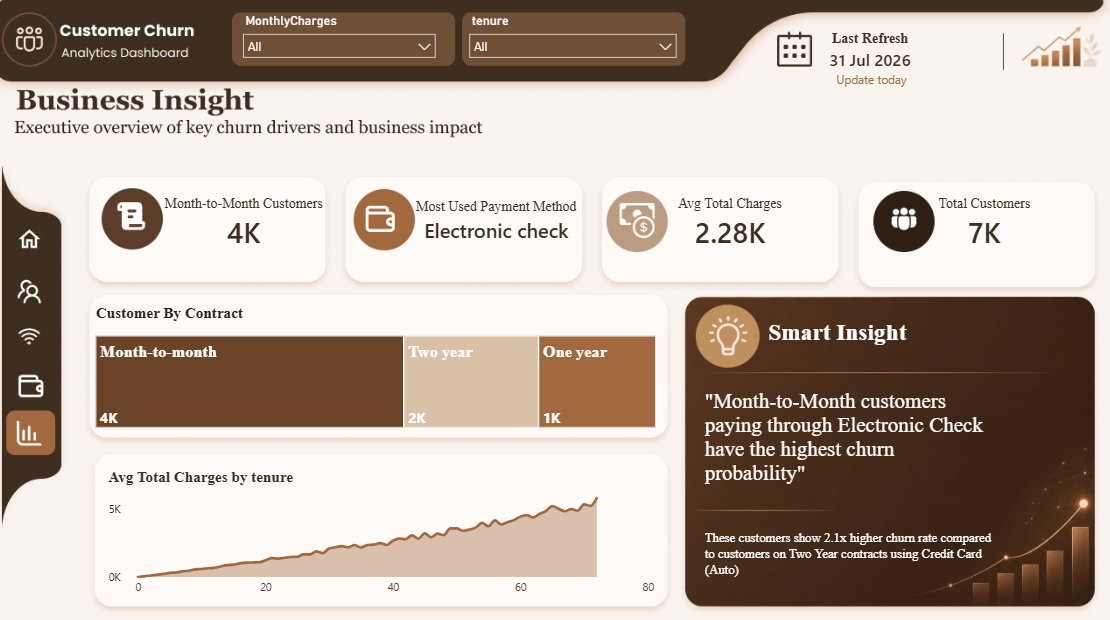

This screenshot's page, from the dashboard's own definition file:
{"tool":"powerbi","page":{"name":"Page 5","canvas":[1280,720],"ordinal":4},"visuals":[{"type":"cardVisual","fields":{"Data":["dax.Month-to-Month Customers"]},"box":[161.7,205,248.3,98.3],"z":0},{"type":"cardVisual","fields":{"Data":["dax.Most Used Payment Method"]},"box":[448.3,198.3,251.7,108.3],"z":1000},{"type":"cardVisual","fields":{"Data":["dax.Avg Total Charges"]},"box":[736.7,205,208.3,98.3],"z":2000},{"type":"cardVisual","fields":{"Data":["dax.Total Customers"]},"box":[1021.7,205,221.7,98.3],"z":3000},{"type":"areaChart","fields":{"Category":["fact customer.tenure"],"Y":["dax.Avg Total Charges"]},"box":[125,535,636.7,148.3],"z":4000},{"type":"cardVisual","fields":{"Data":["dax.Last Refresh"]},"box":[923.4,20.2,157.3,77.9],"z":5000},{"type":"textbox","box":[945,76.5,114,43.3],"z":6000},{"type":"slicer","fields":{"Values":["fact customer.MonthlyCharges"]},"box":[273.9,9.7,240.1,65],"z":7000},{"type":"slicer","fields":{"Values":["fact customer.tenure"]},"box":[532.4,10.1,256.8,66.4],"z":8000},{"type":"actionButton","box":[13,251,59.2,52],"z":9000},{"type":"actionButton","box":[13,308.8,59.2,52],"z":10000},{"type":"actionButton","box":[13,362.1,59.2,52],"z":11000},{"type":"actionButton","box":[13,414.1,59.2,52],"z":12000},{"type":"actionButton","box":[13,467.5,59.2,52],"z":13000},{"type":"textbox","box":[880,360,228.3,43.3],"z":14000},{"type":"textbox","box":[806.7,440,338.3,143.3],"z":15000},{"type":"textbox","box":[806.7,600,338.3,83.3],"z":16000},{"type":"treemap","title":"Customer By Contract","fields":{"Group":["DimContract.Contract"],"Values":["dax.Total Customers"]},"box":[111.7,348.3,650,145],"z":16001}]}

Visuals, with their boxes in screenshot pixels (x1, y1, x2, y2), scaled from the page's 1280x720 canvas onto the 1110x620 screenshot:
cardVisual - dax.Month-to-Month Customers: 140 177 356 261
cardVisual - dax.Most Used Payment Method: 389 171 607 264
cardVisual - dax.Avg Total Charges: 639 177 819 261
cardVisual - dax.Total Customers: 886 177 1078 261
areaChart - fact customer.tenure x dax.Avg Total Charges: 108 461 661 588
cardVisual - dax.Last Refresh: 801 17 937 84
textbox: 819 66 918 103
slicer - fact customer.MonthlyCharges: 238 8 446 64
slicer - fact customer.tenure: 462 9 684 66
actionButton: 11 216 63 261
actionButton: 11 266 63 311
actionButton: 11 312 63 357
actionButton: 11 357 63 401
actionButton: 11 403 63 447
textbox: 763 310 961 347
textbox: 700 379 993 502
textbox: 700 517 993 588
"Customer By Contract" treemap: 97 300 661 425
